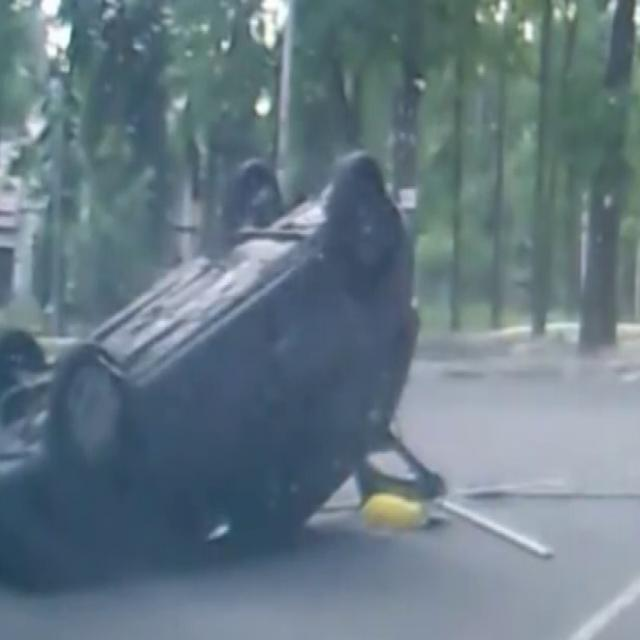accident: (15, 163, 428, 582)
